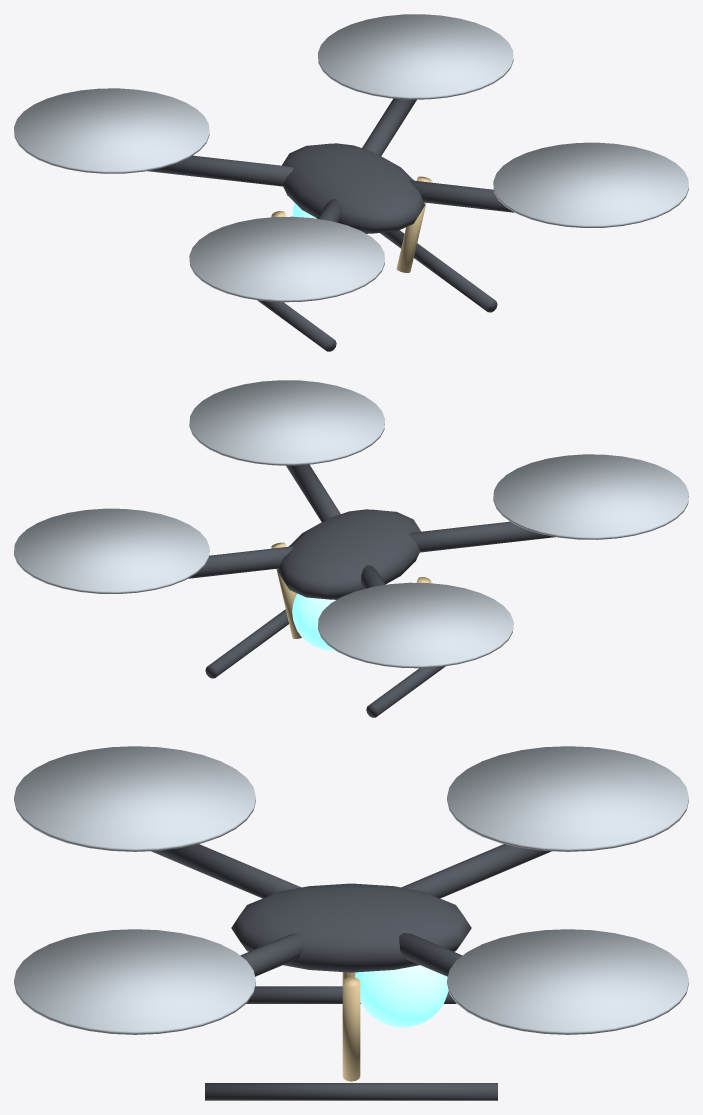
Rendered from drone_ai.glb.
3 views of the same model, one above another, from view 1: azimuth 30°, elevation 25°; view 2: azimuth 150°, elevation 25°; view 3: azimuth 270°, elevation 25° (orthographic). The views are drawn at different scales.
Parts seen in each view (by area): view 1: drone_ai_QuantizedMesh; view 2: drone_ai_QuantizedMesh; view 3: drone_ai_QuantizedMesh.
Part boxes in pixels (<box>): drone_ai_QuantizedMesh: <box>14,14,688,351</box>; drone_ai_QuantizedMesh: <box>14,380,688,717</box>; drone_ai_QuantizedMesh: <box>14,746,688,1100</box>.
Bounding box in the file's own units: 1.06 × 0.282 × 1.06.
